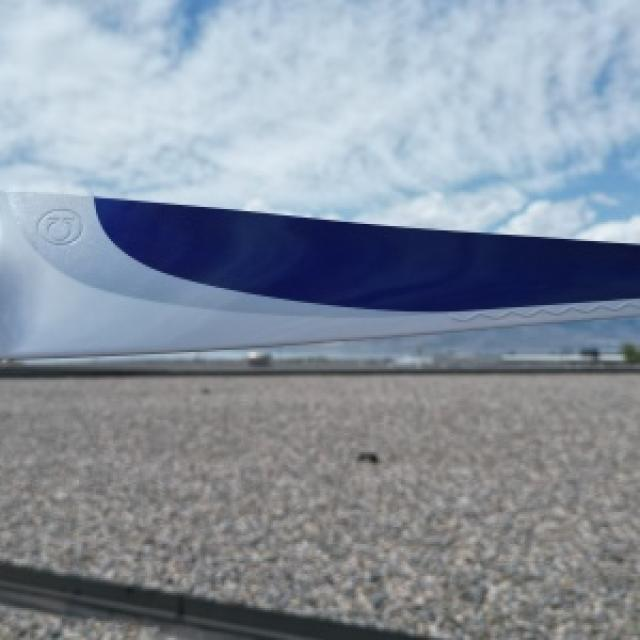healthy: (0, 192, 638, 356)
